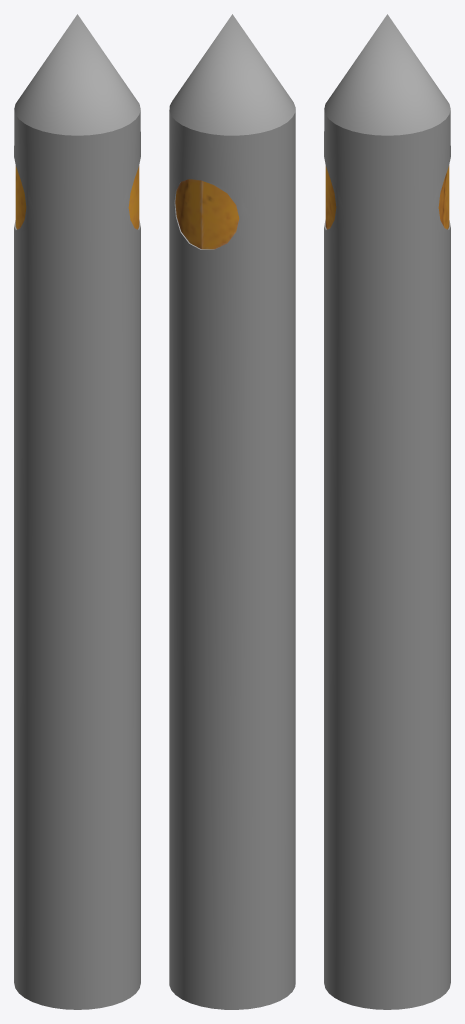
File: kui.fbx
The picture shows the model from 3 angles, left to right: view 1: azimuth 90°, elevation 25°; view 2: azimuth 150°, elevation 25°; view 3: azimuth 270°, elevation 25°; orthographic projection.
Parts seen in each view (by area): view 1: kui; view 2: kui; view 3: kui.
Boxes of the visible parts, box(x1,y1,x2,y2) form: kui: box(14, 14, 140, 1009); kui: box(169, 14, 295, 1009); kui: box(324, 14, 450, 1009).
Size of the model in its own units: 11.99 by 101 by 11.99.
